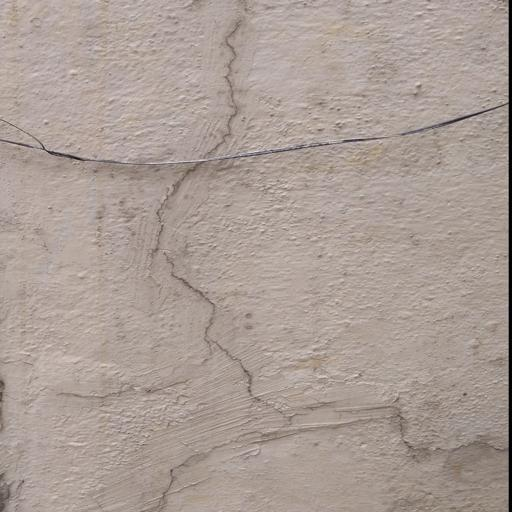minor_crack: (142, 0, 311, 430), (111, 388, 309, 512), (292, 365, 512, 465)
